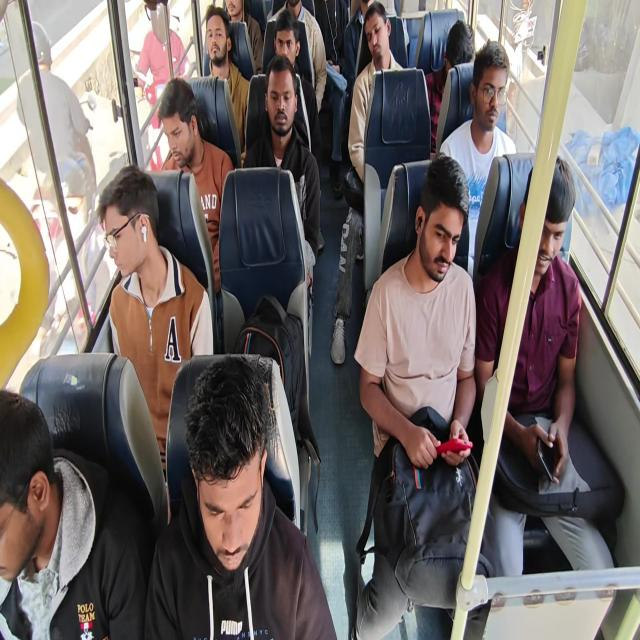person: (474, 155, 619, 637), (353, 154, 493, 638), (144, 354, 338, 639), (96, 164, 214, 482), (0, 387, 147, 638), (330, 2, 406, 364), (16, 20, 99, 329), (242, 54, 321, 357), (437, 39, 517, 278), (157, 77, 234, 294), (348, 2, 406, 184), (135, 1, 190, 170), (305, 0, 351, 198), (202, 5, 250, 157), (424, 19, 475, 153), (269, 0, 327, 114), (343, 0, 381, 82), (223, 0, 263, 75)
